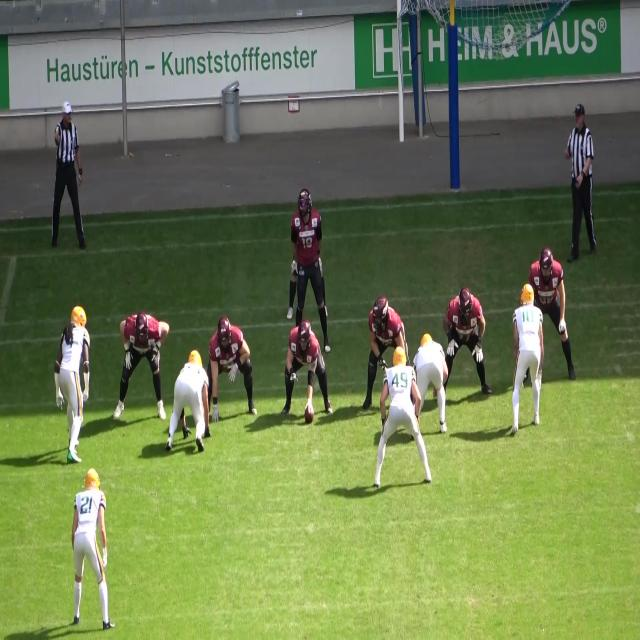american-football-players: (373, 347, 432, 485), (290, 190, 333, 350), (72, 467, 114, 630), (528, 250, 576, 378), (201, 318, 260, 417), (54, 306, 90, 462), (508, 284, 544, 436), (118, 316, 169, 419), (442, 290, 492, 394), (364, 295, 409, 402), (284, 322, 334, 416), (169, 352, 212, 452), (286, 223, 327, 322), (411, 332, 450, 432)
